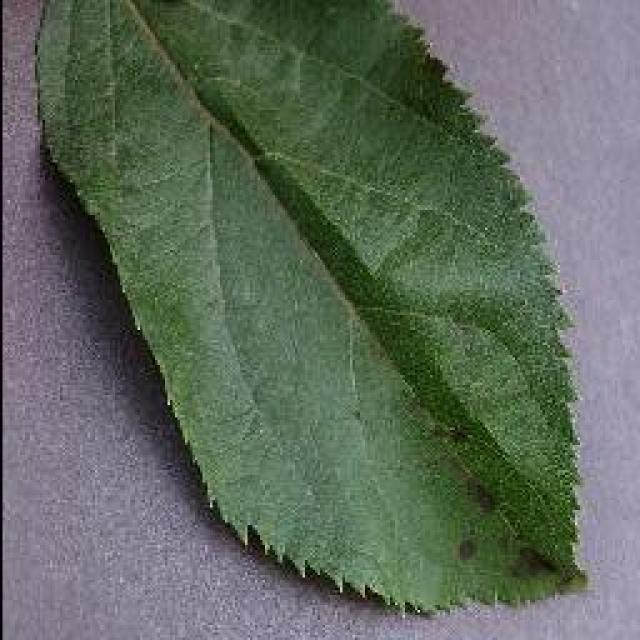apple scab disease: (32, 0, 590, 618)
